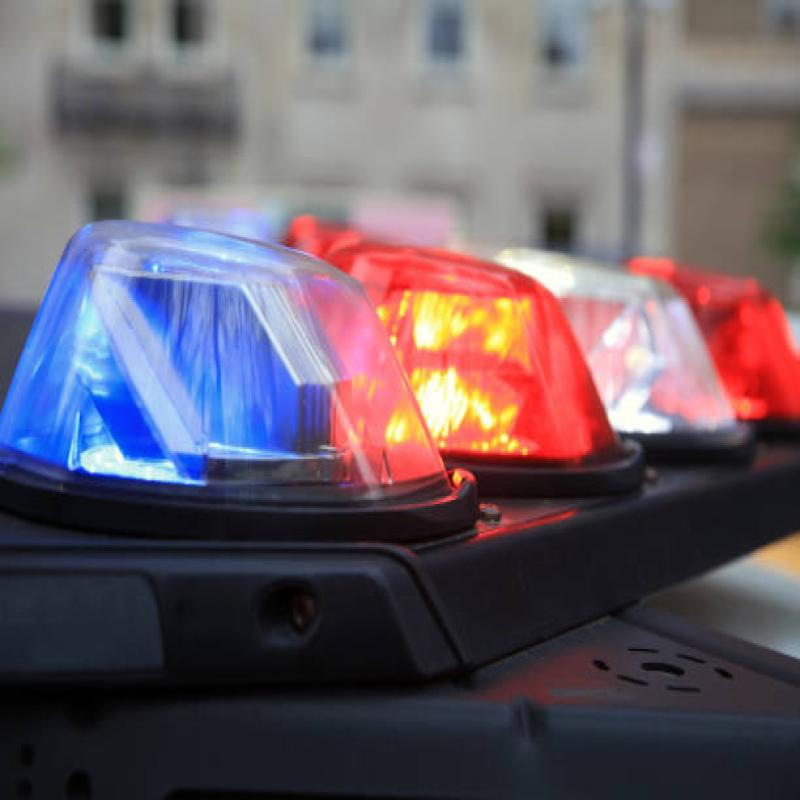AmbulanceSiren: (52, 229, 800, 555)
